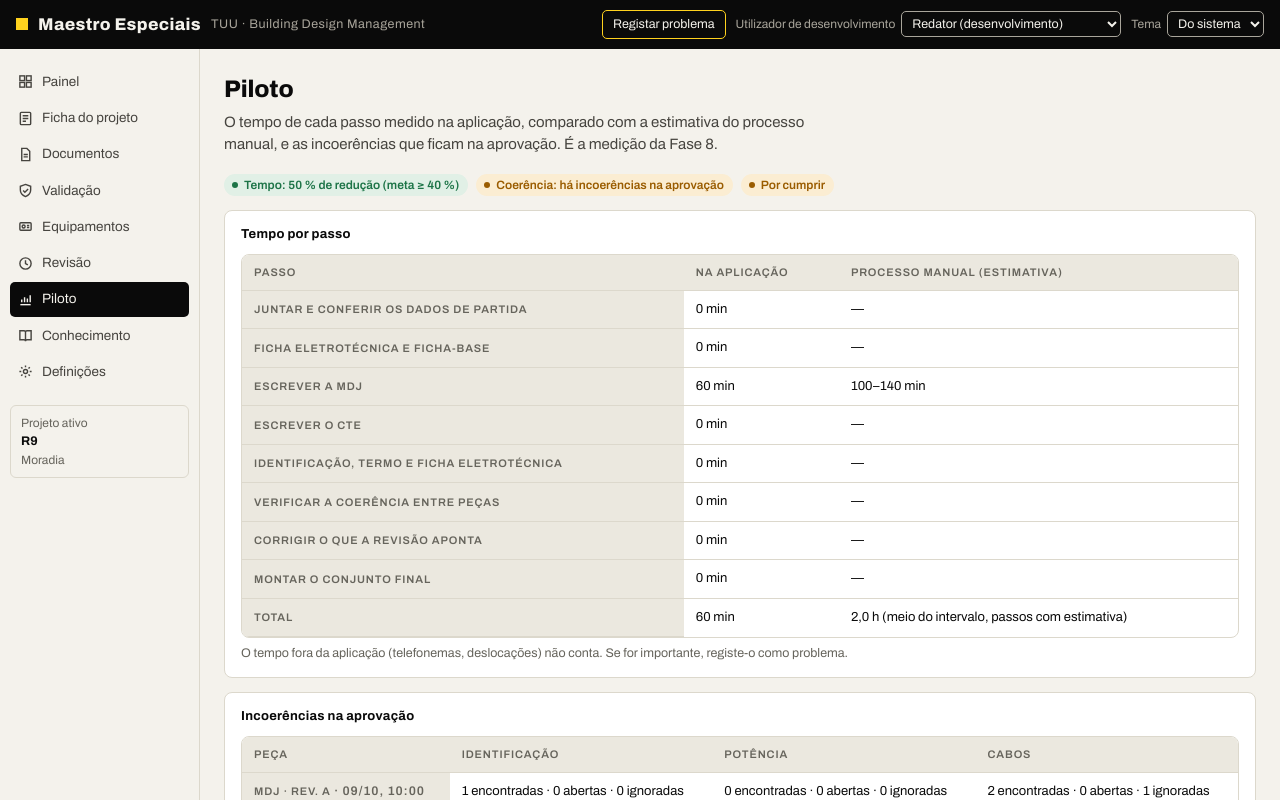
Test: pilot screen (Phase 8) › writes a problem from any screen, with the project and the screen
This screenshot has width=1280, height=800.
Click the button "Registar problema".
click(664, 24)  # box [602, 10, 726, 39]
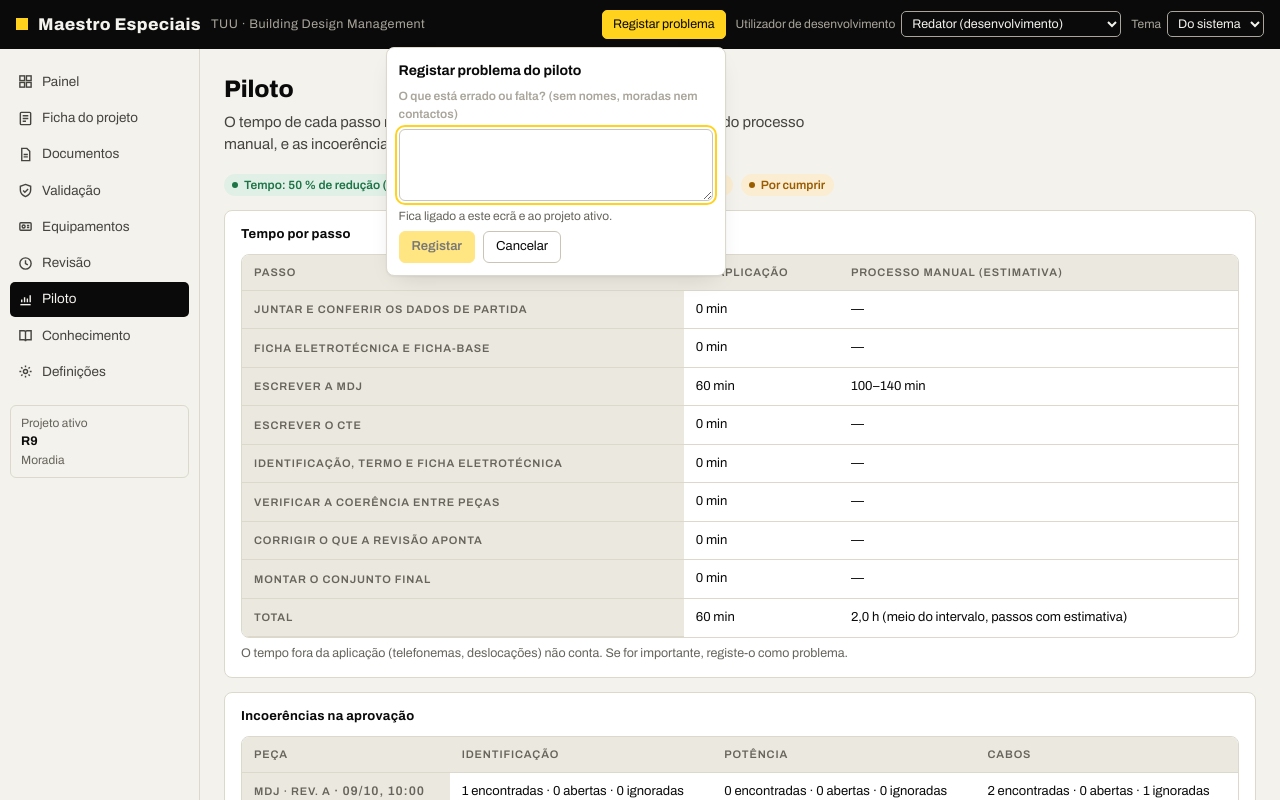
Type "Alerta de cabos errado." into the text box.
click(556, 165); type("Alerta de cabos errado.")  # box [399, 129, 713, 201]
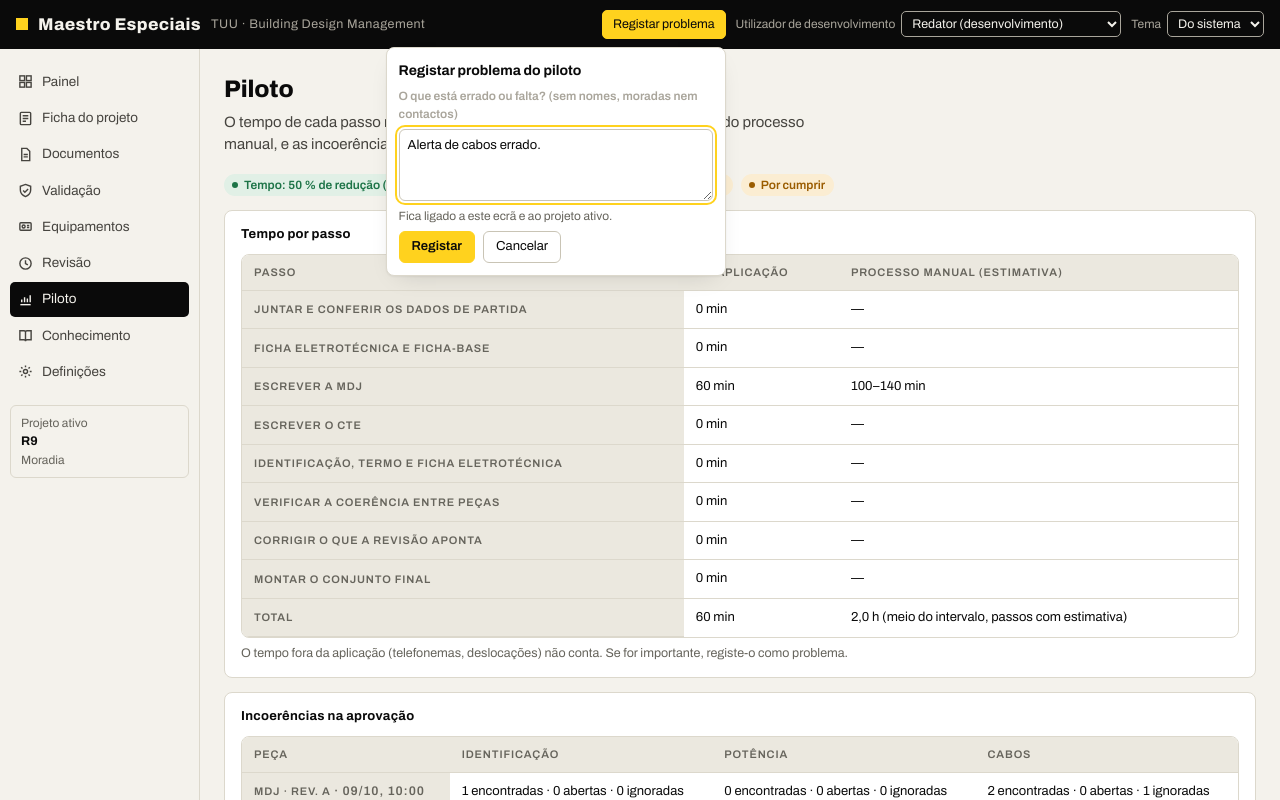
Click the button "Registar".
click(437, 247)  # box [399, 231, 475, 263]
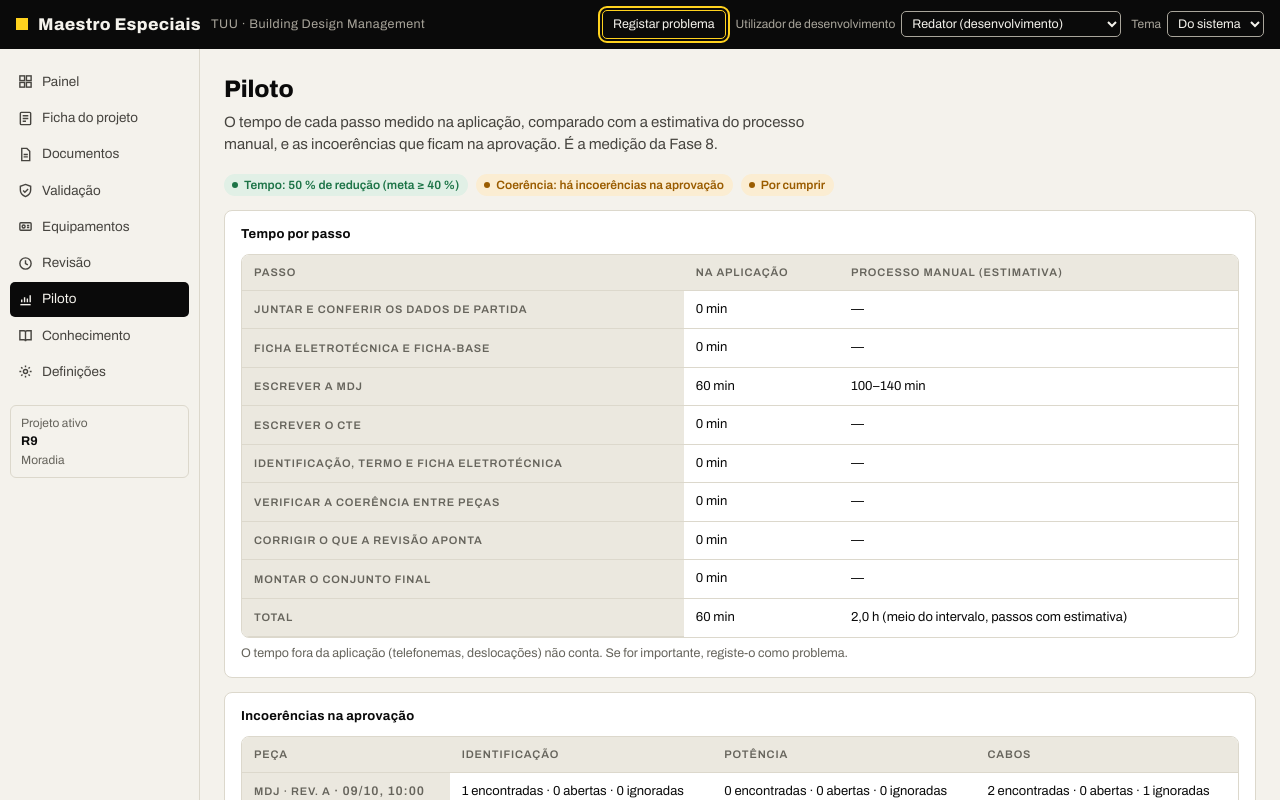
Result: the dialog is gone
